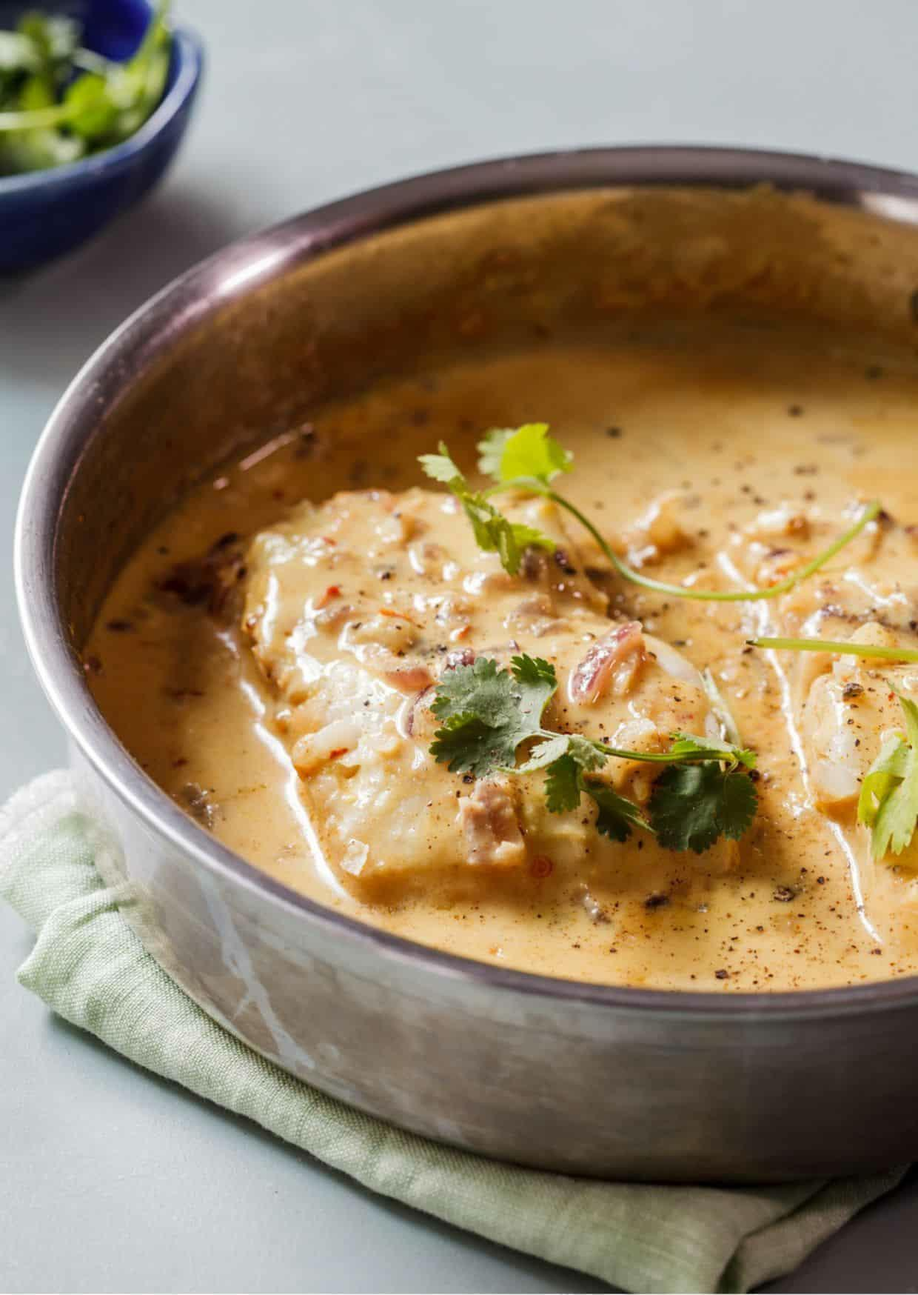FishCurry: (65, 313, 918, 997)
